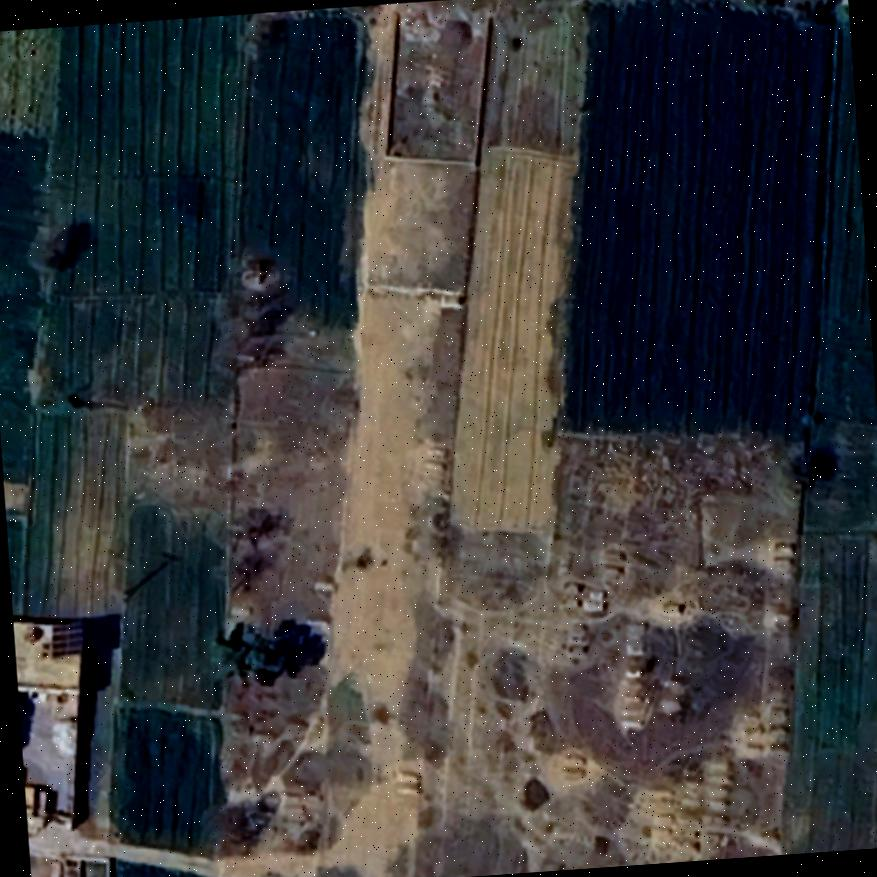Solarpanel: (45, 616, 89, 660)
